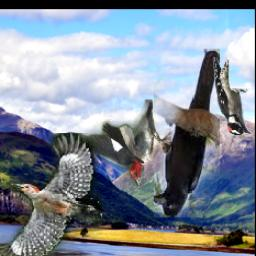Crow: (154, 49, 220, 217)
Woodpecker: (0, 134, 102, 256), (86, 101, 171, 187), (213, 58, 253, 136)
